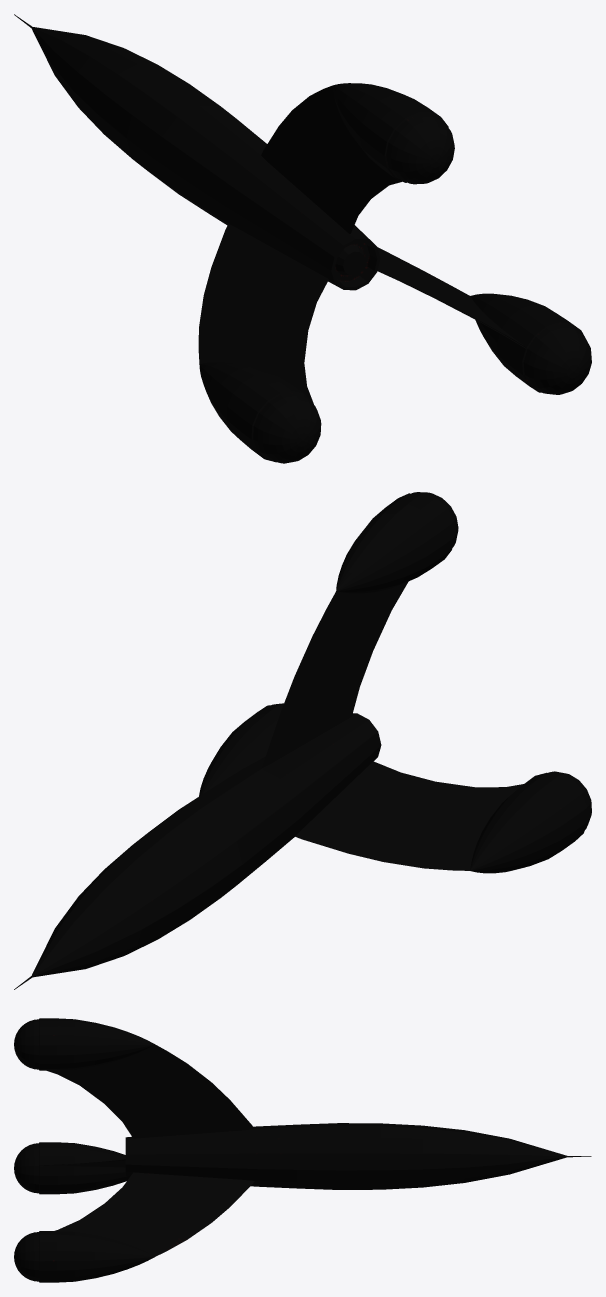
Rendered from missile.glb.
3 views of the same model, one above another, from view 1: azimuth 30°, elevation 25°; view 2: azimuth 150°, elevation 25°; view 3: azimuth 270°, elevation 25° (orthographic). The views are drawn at different scales.
Parts seen in each view (by area): view 1: mesh_id6, mesh_id7; view 2: mesh_id6, mesh_id7; view 3: mesh_id6, mesh_id7.
Part boxes in pixels (x1,y1,x2,y2): mesh_id6: (14,14,591,463); mesh_id7: (74,47,266,225); mesh_id6: (14,492,591,989); mesh_id7: (91,768,299,955); mesh_id6: (14,1018,591,1282); mesh_id7: (256,1123,464,1189).
Size of the model in its own units: 0.235 by 0.2106 by 0.512.
2 materials, 2 textured.
